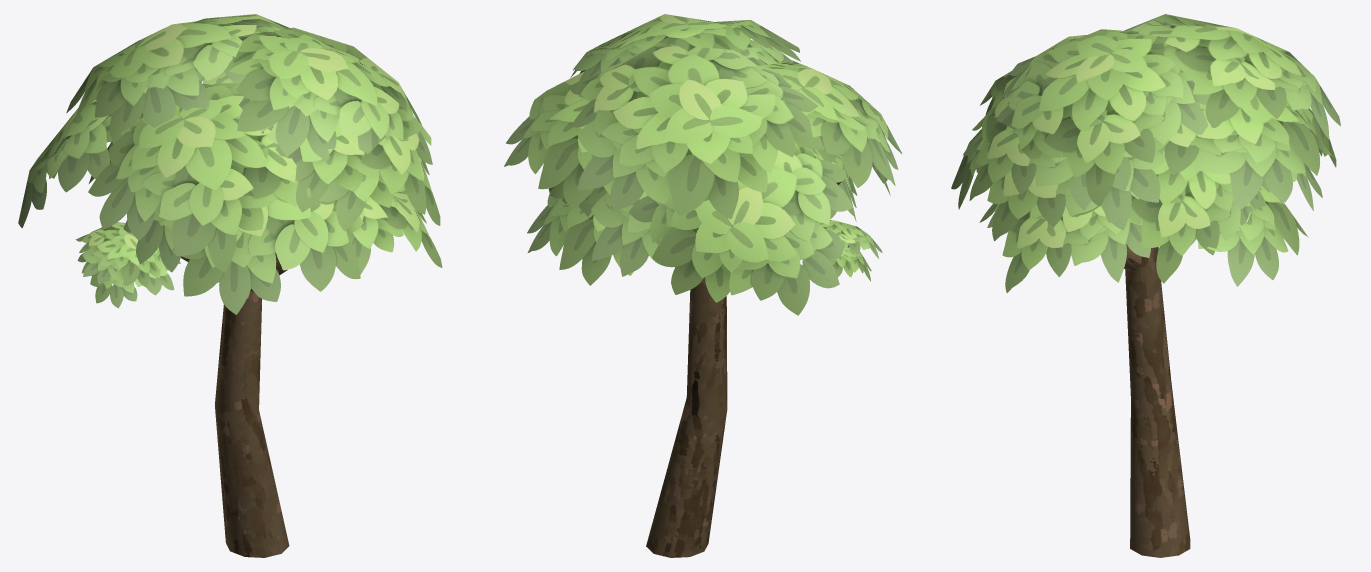
Rendered from tree_1.glb.
3 views of the same model, side by side, from view 1: azimuth 30°, elevation 25°; view 2: azimuth 150°, elevation 25°; view 3: azimuth 270°, elevation 25° (orthographic).
Parts seen in each view (by area): view 1: Tree_1; view 2: Tree_1; view 3: Tree_1.
Boxes of the visible parts, left/top/right/bottom form: Tree_1: left=18, top=14, right=442, bottom=557; Tree_1: left=504, top=14, right=902, bottom=557; Tree_1: left=951, top=14, right=1340, bottom=557.
Size of the model in its own units: 4.14 by 5.54 by 4.13.
Materials: 2 (2 with a texture image).
